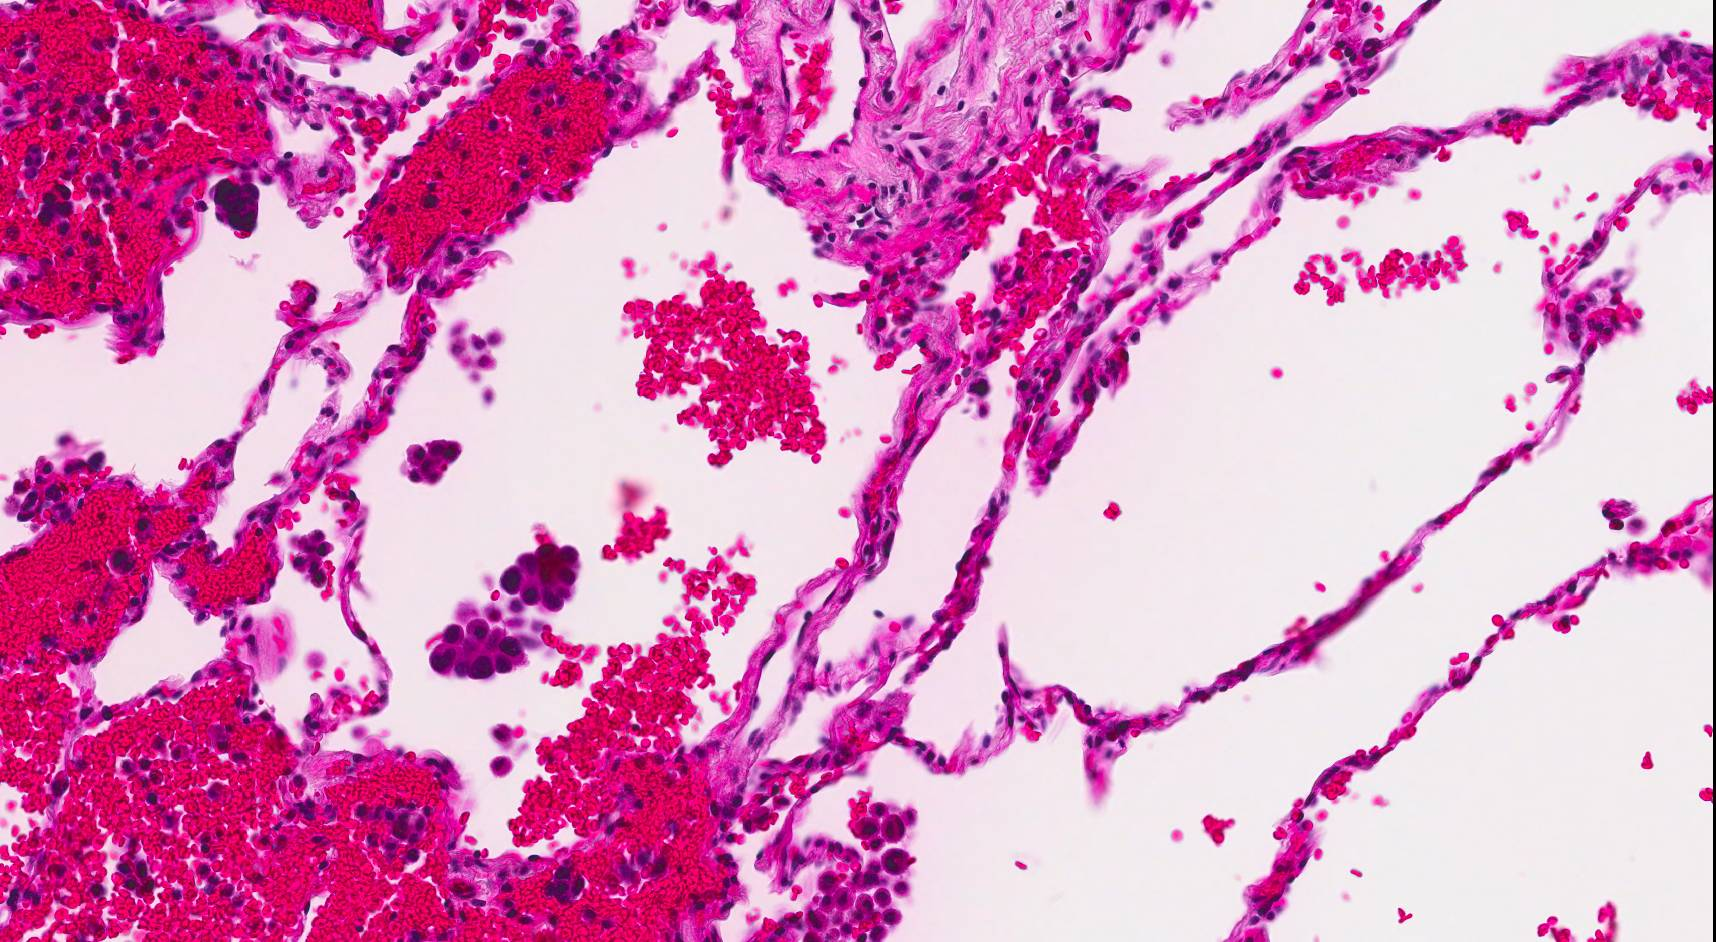stas: (425, 617, 531, 681), (496, 541, 588, 611), (209, 179, 263, 233)
